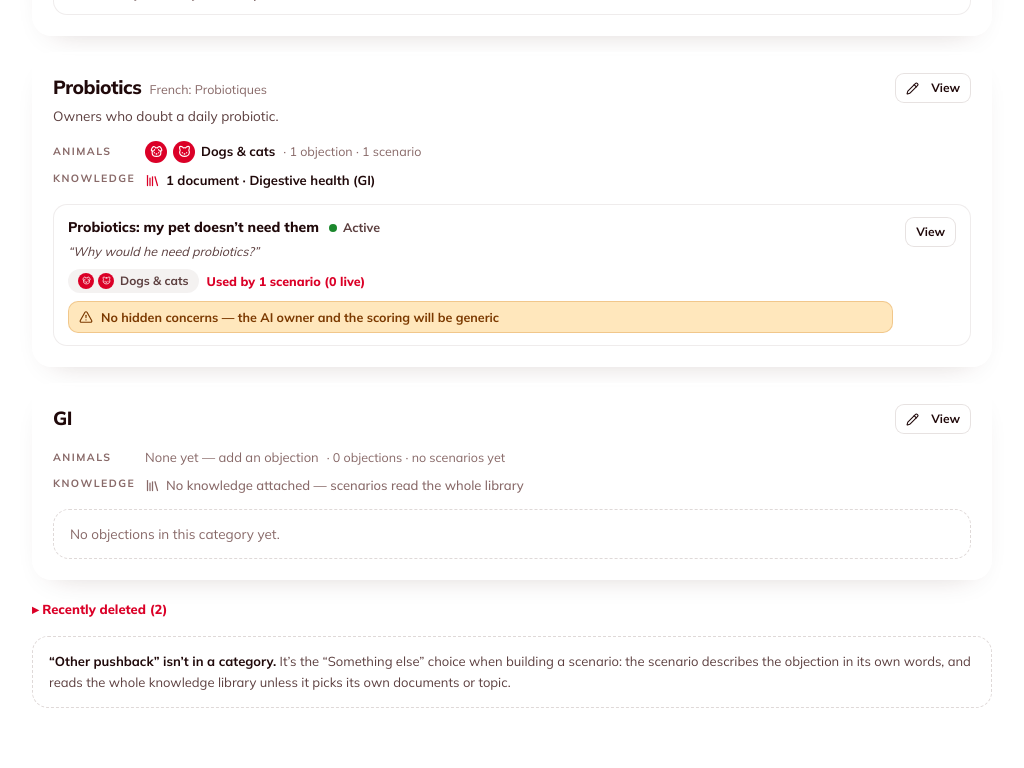
Test: CategoriesScreen › is read-only without scenarios.write
(page scrolled)
Expected: the element "Probiotics" is shown, [32,52,992,367]
Click the button with aria-label "View the category “Probiotics”" at (933, 88), box [895,73,971,103]
(page scrolled)
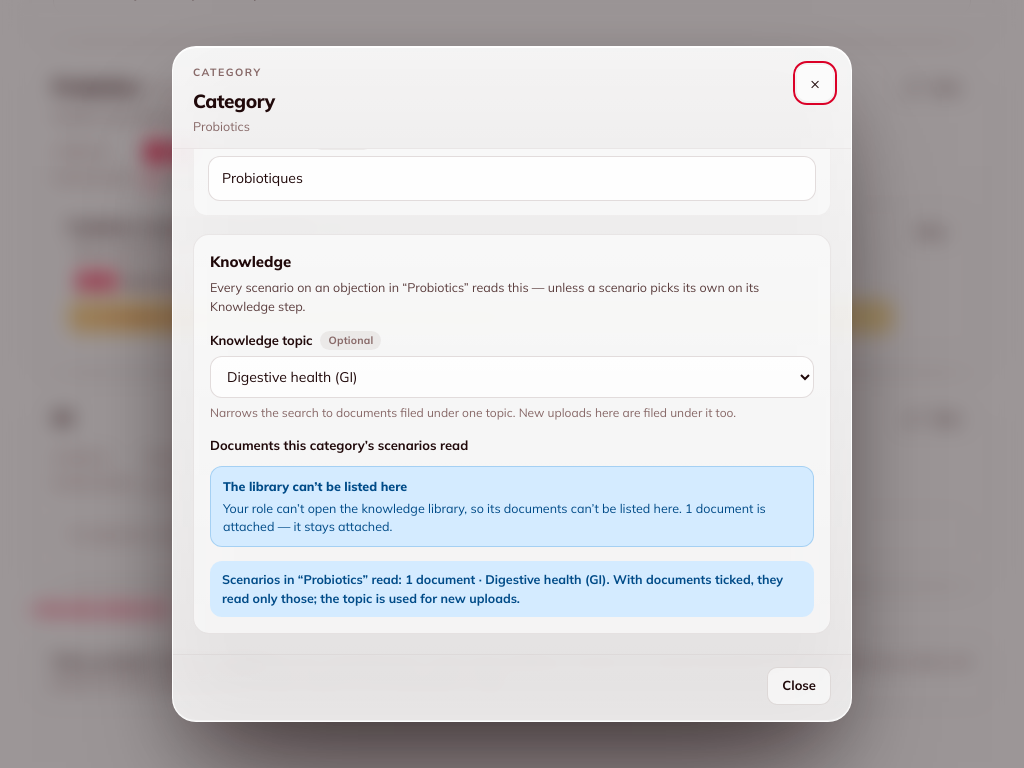
Expected: the text "1 document is attached — it stays attached" is shown, [223,500,766,534]
